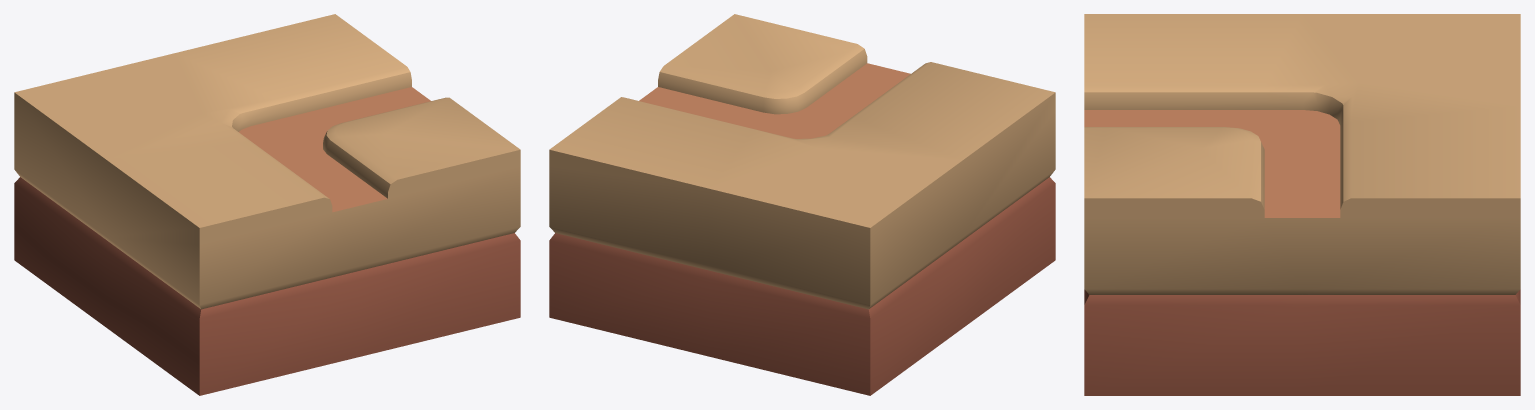
File: kaykit-square-sand-roadc-detail.glb
The picture shows the model from 3 angles, left to right: view 1: azimuth 30°, elevation 25°; view 2: azimuth 150°, elevation 25°; view 3: azimuth 270°, elevation 25°; orthographic projection. The views are drawn at different scales.
Parts seen in each view (by area): view 1: square_sand_roadC_detail; view 2: square_sand_roadC_detail; view 3: square_sand_roadC_detail.
Part boxes in pixels (x1,y1,x2,y2): square_sand_roadC_detail: [14, 14, 520, 395]; square_sand_roadC_detail: [549, 14, 1055, 395]; square_sand_roadC_detail: [1084, 14, 1520, 395].
Size of the model in its own units: 2 by 0.9998 by 2.
